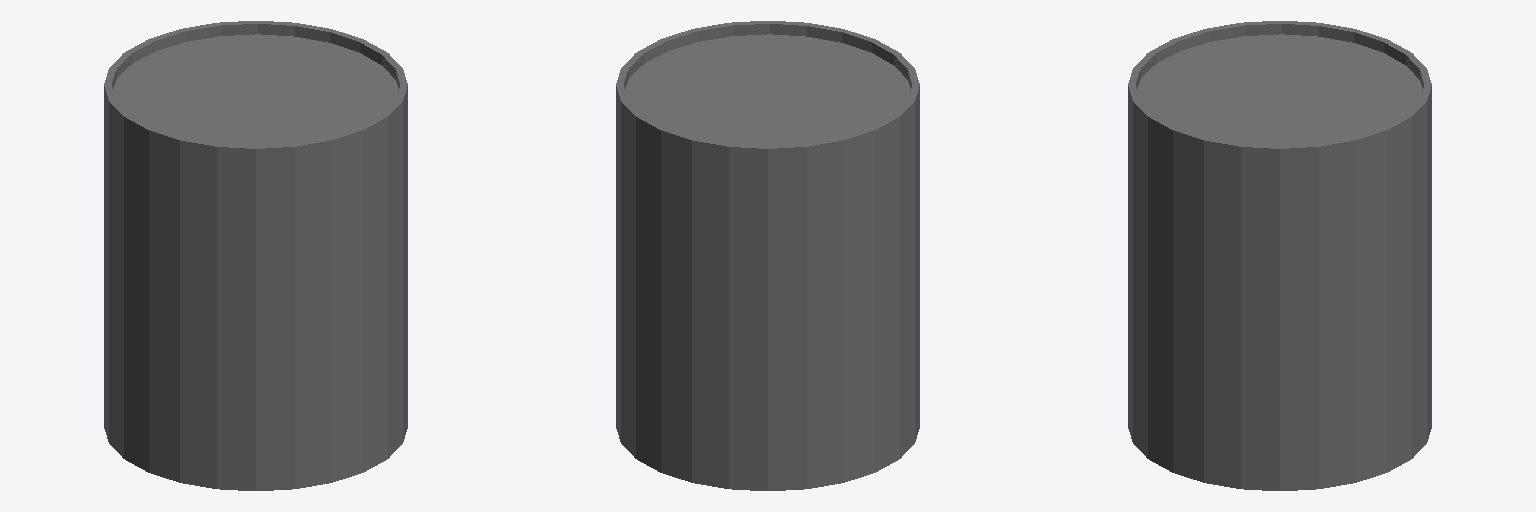
robot.urdf — object:
<?xml version="1.0"?>
<robot name="object">
  <link name="object">
    <visual>
      <origin xyz="0 0 0"/>
      <geometry>
        <mesh
          filename="../../mesh/oakink_virtual/can_s196.stl" />
      </geometry>
      <material name="mat">
        <color rgba="0.5 0.5 0.5 1"/>
      </material>
    </visual>

    <collision>
      <origin xyz="0 0 0"/>
      <geometry>
        <mesh
          filename="../../mesh/oakink_virtual/can_s196.stl" />
      </geometry>
    </collision>
  </link>
</robot>

--- What the picture shows (computed from the rendered views, not written in the file) ---
Views: 3 orthographic renders of the robot side by side, from view 1: azimuth 30°, elevation 25°; view 2: azimuth 150°, elevation 25°; view 3: azimuth 270°, elevation 25°.
Robot: object — 1 links, 0 joints (none); root link object; default pose: every joint at zero.
Links seen in each view (by area): view 1: object; view 2: object; view 3: object.
Boxes of the visible links, bbox=[...] form: object: bbox=[104, 21, 407, 490]; object: bbox=[616, 21, 919, 490]; object: bbox=[1128, 21, 1431, 490].
Bounding box of the posed robot: 0.0765 × 0.0765 × 0.0951 m (x, y, z).
1 mesh visuals loaded from 1 distinct referenced files (1 binary STL).